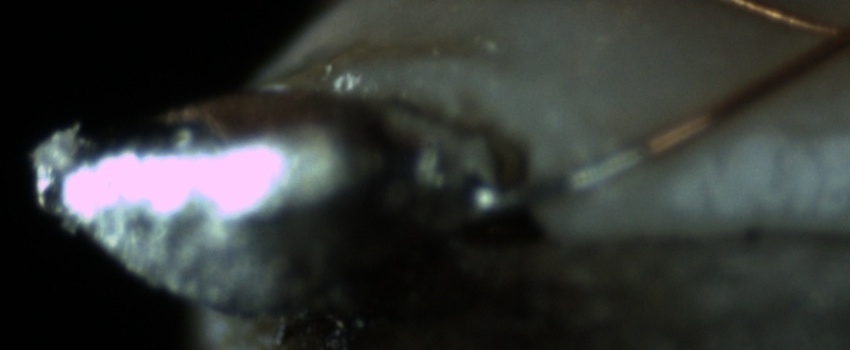CL: (779, 8, 849, 64)
TS: (483, 139, 644, 217)
